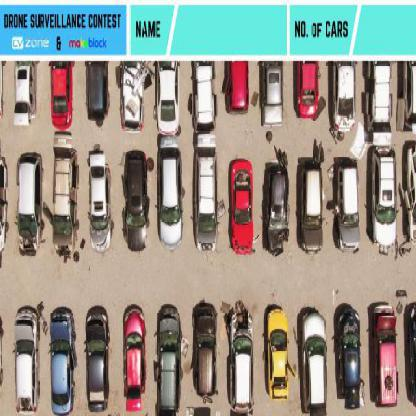car: (192, 64, 218, 250), (155, 306, 183, 415), (335, 305, 363, 411), (48, 307, 76, 413), (84, 307, 111, 413), (228, 303, 254, 413), (372, 304, 400, 406), (299, 308, 326, 412), (123, 154, 151, 252), (17, 152, 43, 256), (193, 302, 218, 410), (15, 306, 40, 413), (124, 306, 148, 414), (89, 150, 113, 256), (230, 160, 255, 257), (376, 147, 398, 251), (267, 308, 289, 402), (340, 161, 361, 254), (52, 60, 72, 130), (159, 62, 178, 134), (17, 62, 33, 126)
